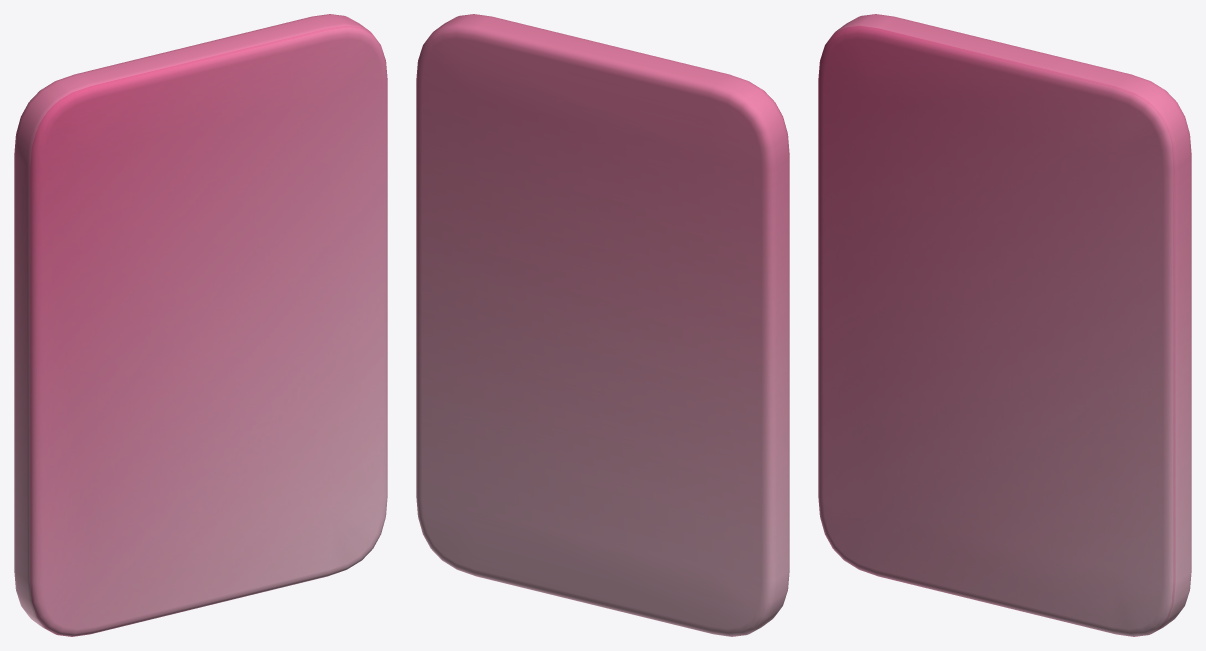
Rendered from card-pink.glb.
The picture shows the model from 3 angles, left to right: view 1: azimuth 30°, elevation 25°; view 2: azimuth 150°, elevation 25°; view 3: azimuth 330°, elevation 25°; orthographic projection.
Visible parts, largest first — view 1: Card; view 2: Card; view 3: Card.
Boxes of the visible parts, x1,y1,x2,y2 form: Card: (14,14,387,636); Card: (416,14,789,636); Card: (818,14,1191,636).
Bounding box in the file's own units: 11.63 × 17.02 × 1.28.
1 material, 1 textured.
